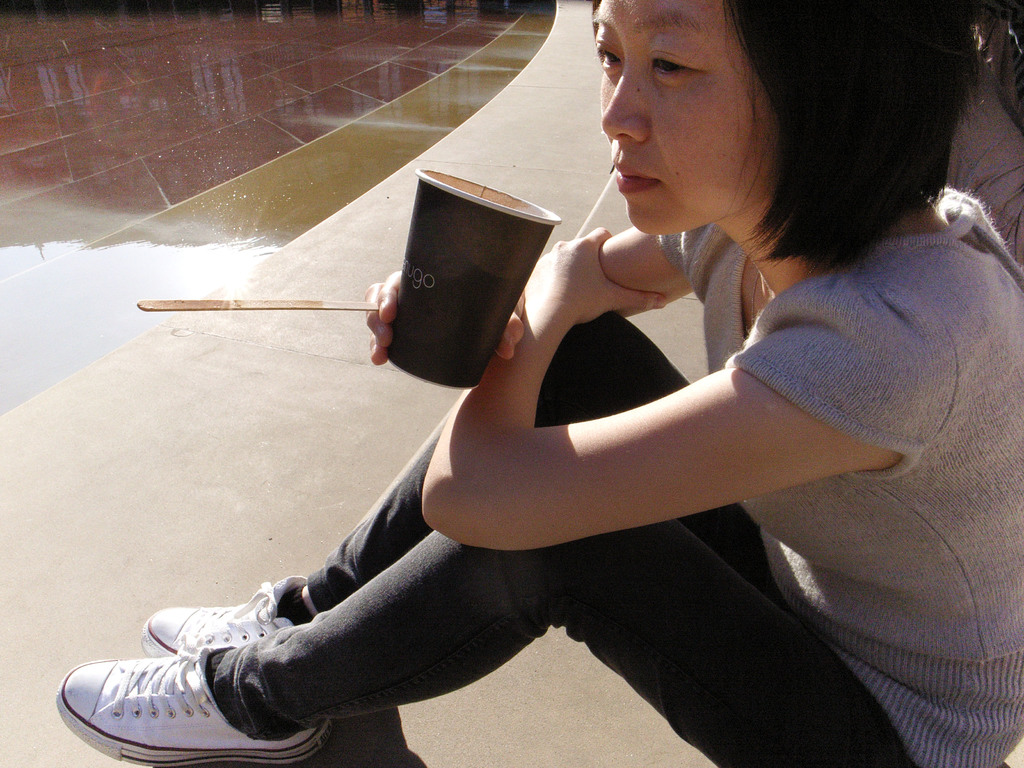Human_hand: (359, 266, 530, 367), (521, 225, 668, 323)
